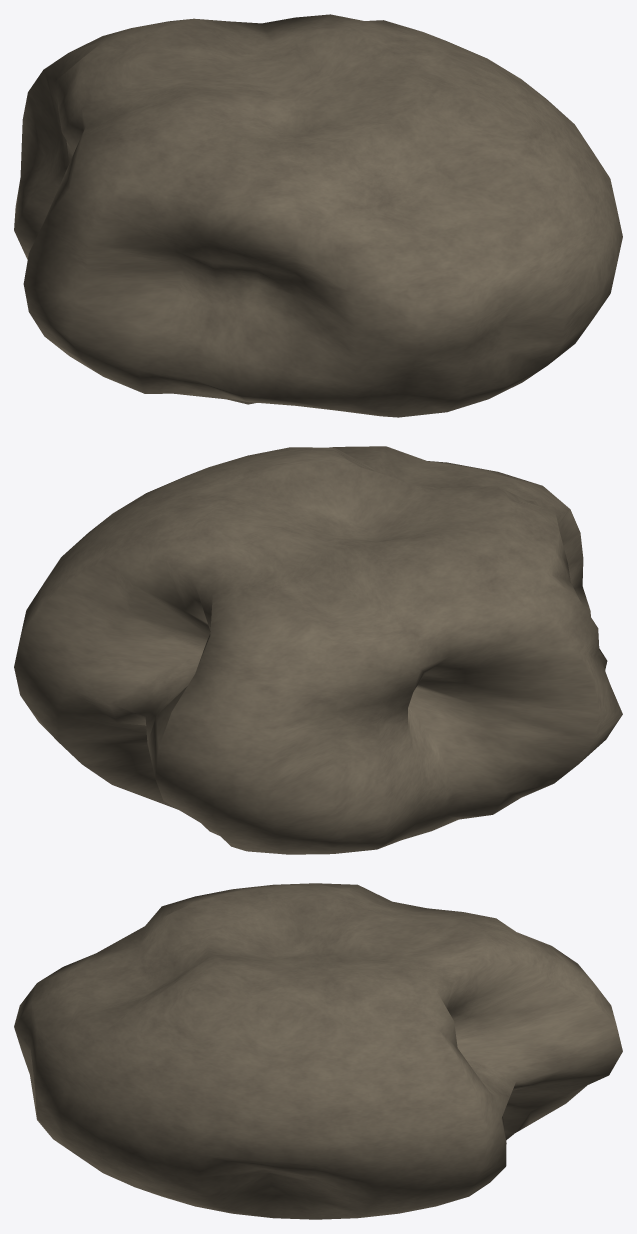
The model's file is RockSmall.fbx.
The picture shows the model from 3 angles, top to bottom: view 1: azimuth 30°, elevation 25°; view 2: azimuth 150°, elevation 25°; view 3: azimuth 270°, elevation 25°; orthographic projection. The views are drawn at different scales.
Parts seen in each view (by area): view 1: Sphere.001; view 2: Sphere.001; view 3: Sphere.001.
Boxes of the visible parts, bbox=[...] form: Sphere.001: bbox=[14, 14, 622, 417]; Sphere.001: bbox=[14, 446, 622, 854]; Sphere.001: bbox=[14, 883, 622, 1219].
Bounding box in the file's own units: 132 × 66.9 × 152.
